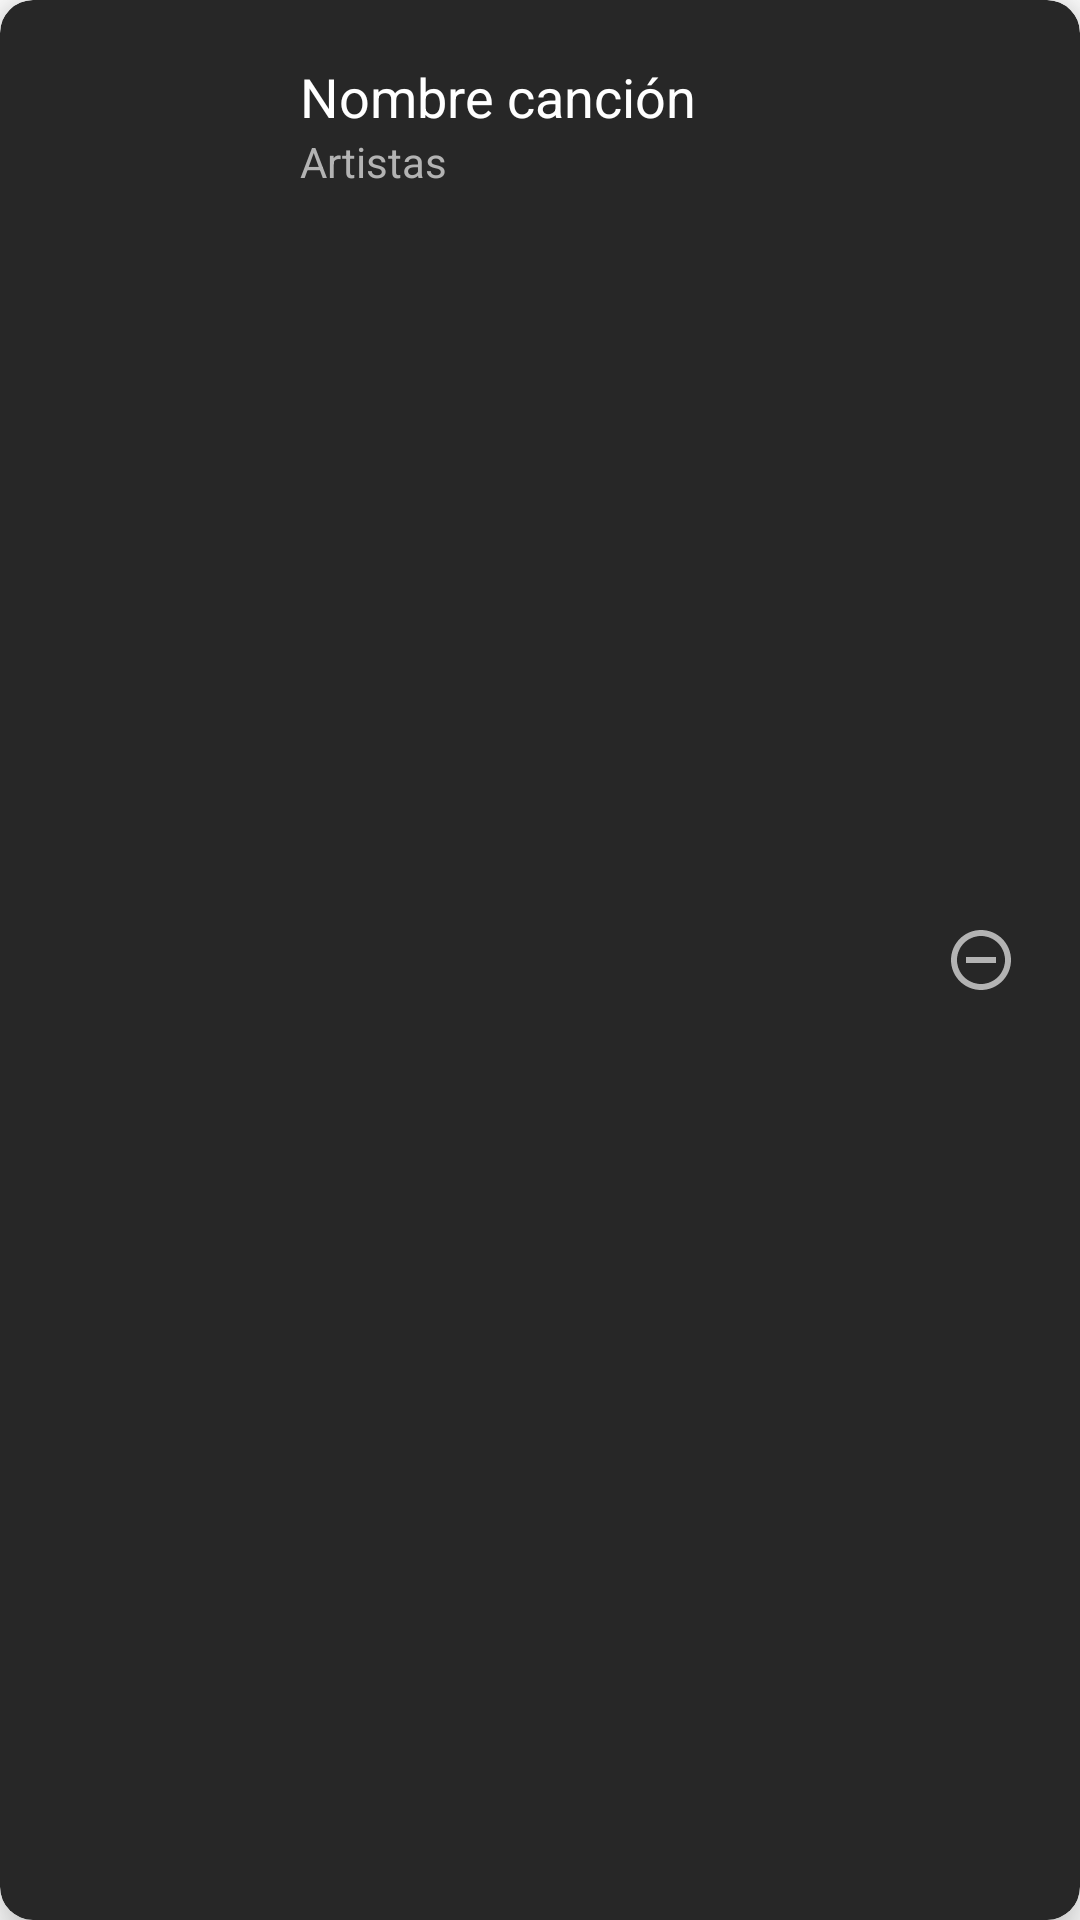

Named icons in this screenshot (1080*1920) and their centers, (x,y):
do disturb on: (981,960)
